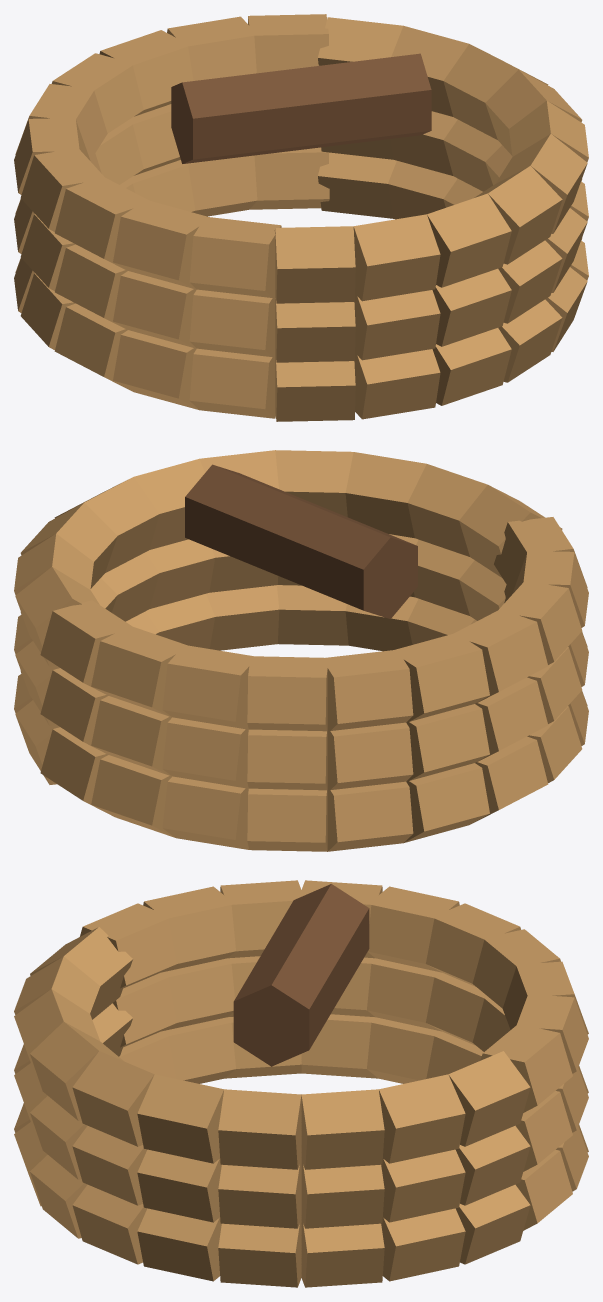
Rendered from material_rope.glb.
3 renders of one model, top to bottom at view 1: azimuth 30°, elevation 25°; view 2: azimuth 150°, elevation 25°; view 3: azimuth 270°, elevation 25°, orthographic.
Parts seen in each view (by area): view 1: material_rope; view 2: material_rope; view 3: material_rope.
Part boxes in pixels (bbox=[...]): material_rope: bbox=[14, 14, 588, 421]; material_rope: bbox=[14, 450, 588, 851]; material_rope: bbox=[14, 880, 588, 1287].
Bounding box in the file's own units: 0.5751 × 0.27 × 0.5751.
